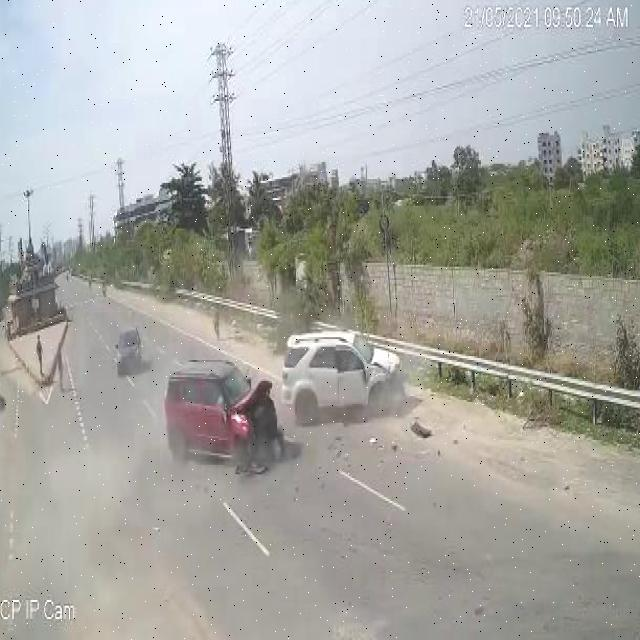accident: (160, 318, 412, 482)
